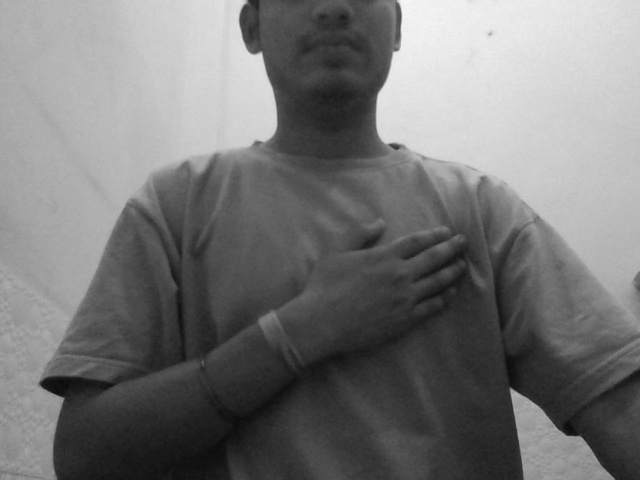Sorry: (247, 180, 526, 396)
